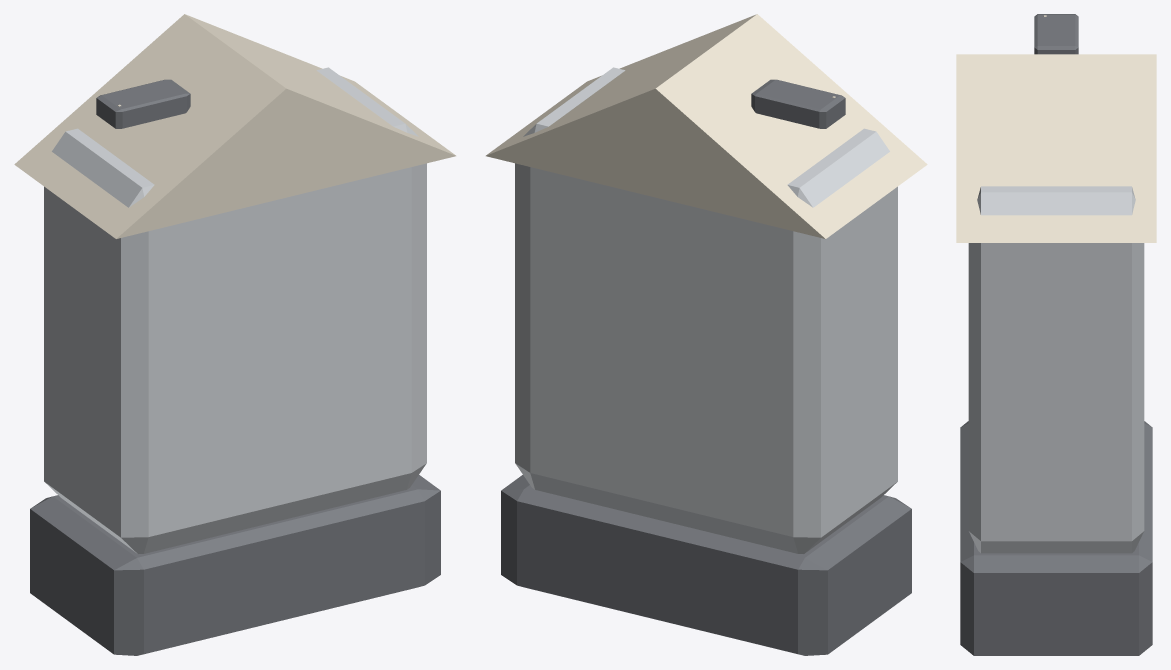
The model's file is b10_bulk_nut_dispenser_stand.glb.
3 views of the same model, side by side, from view 1: azimuth 30°, elevation 25°; view 2: azimuth 150°, elevation 25°; view 3: azimuth 270°, elevation 25° (orthographic).
Visible parts, largest first — view 1: b10_bulk_nut_dispenser_stand; view 2: b10_bulk_nut_dispenser_stand; view 3: b10_bulk_nut_dispenser_stand.
Boxes of the visible parts, bbox=[...] form: b10_bulk_nut_dispenser_stand: bbox=[14, 14, 455, 655]; b10_bulk_nut_dispenser_stand: bbox=[486, 14, 927, 655]; b10_bulk_nut_dispenser_stand: bbox=[956, 14, 1156, 655].
Size of the model in its own units: 1.1 by 1.66 by 0.57.
